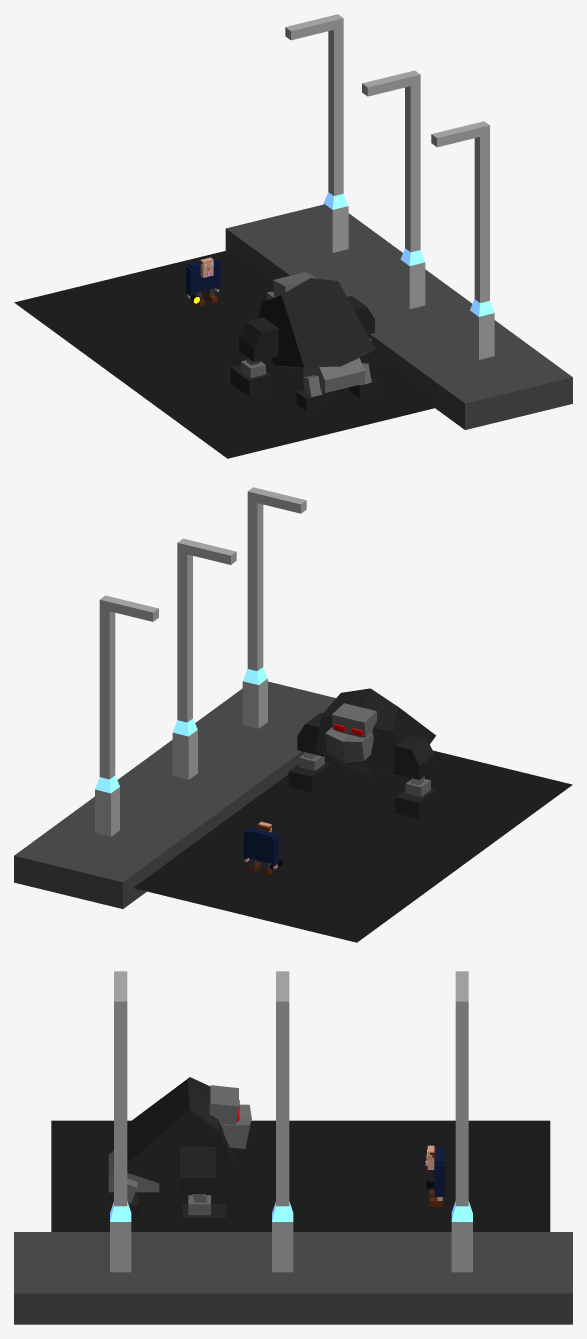
File: ID116 - Street Scene - Heather Boyce.fbx
3 views of the same model, one above another, from view 1: azimuth 30°, elevation 25°; view 2: azimuth 150°, elevation 25°; view 3: azimuth 270°, elevation 25° (orthographic). The views are drawn at different scales.
Parts seen in each view (by area): view 1: Plane, Cube.029, Cube.022, Cube.030, Cube.032, Cube.033, Cube.023, Cube.025, Cube.019, Cube.024, Cube; view 2: Plane, Cube.029, Cube.033, Cube.030, Cube.032, Cube.022, Cube.023, Cube.019, Cube.028, Cube.027, Cube, Cube.020; view 3: Cube.029, Plane, Cube.022, Cube.032, Cube.033, Cube.030, Cube.023, Cube.027, Cube.019, Cube.028, Cube.025.
Part boxes in pixels (x1=…): Plane: x1=14, y1=248, x2=448, y2=458; Cube.029: x1=225, y1=204, x2=572, y2=429; Cube.022: x1=258, y1=278, x2=375, y2=369; Cube.030: x1=285, y1=14, x2=348, y2=252; Cube.032: x1=362, y1=70, x2=425, y2=309; Cube.033: x1=431, y1=121, x2=494, y2=359; Cube.023: x1=239, y1=296, x2=374, y2=362; Cube.025: x1=303, y1=358, x2=364, y2=392; Cube.019: x1=230, y1=347, x2=377, y2=396; Cube.024: x1=296, y1=377, x2=377, y2=411; Cube: x1=188, y1=257, x2=218, y2=293; Plane: x1=133, y1=750, x2=572, y2=942; Cube.029: x1=14, y1=681, x2=335, y2=908; Cube.033: x1=242, y1=487, x2=306, y2=728; Cube.030: x1=95, y1=595, x2=158, y2=836; Cube.032: x1=172, y1=538, x2=236, y2=779; Cube.022: x1=314, y1=688, x2=435, y2=778; Cube.023: x1=297, y1=712, x2=434, y2=779; Cube.019: x1=288, y1=762, x2=437, y2=818; Cube.028: x1=325, y1=727, x2=373, y2=762; Cube.027: x1=332, y1=703, x2=377, y2=737; Cube: x1=246, y1=827, x2=276, y2=863; Cube.020: x1=299, y1=754, x2=430, y2=796; Cube.029: x1=14, y1=1232, x2=572, y2=1324; Plane: x1=51, y1=1120, x2=550, y2=1231; Cube.022: x1=127, y1=1077, x2=233, y2=1189; Cube.032: x1=272, y1=971, x2=293, y2=1272; Cube.033: x1=110, y1=971, x2=131, y2=1272; Cube.030: x1=451, y1=971, x2=472, y2=1272; Cube.023: x1=180, y1=1147, x2=215, y2=1193; Cube.027: x1=209, y1=1085, x2=238, y2=1130; Cube.019: x1=182, y1=1171, x2=225, y2=1231; Cube.028: x1=223, y1=1104, x2=251, y2=1148; Cube.025: x1=108, y1=1150, x2=159, y2=1192.
Size of the model in its own units: 2598 by 1936 by 3269.
